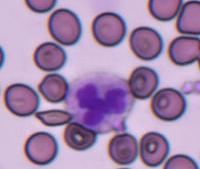N: (65, 71, 135, 132)
